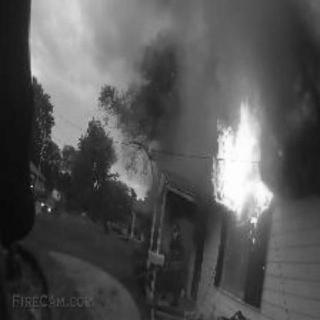Fire: (204, 97, 290, 235)
Smoke: (190, 7, 314, 91)
